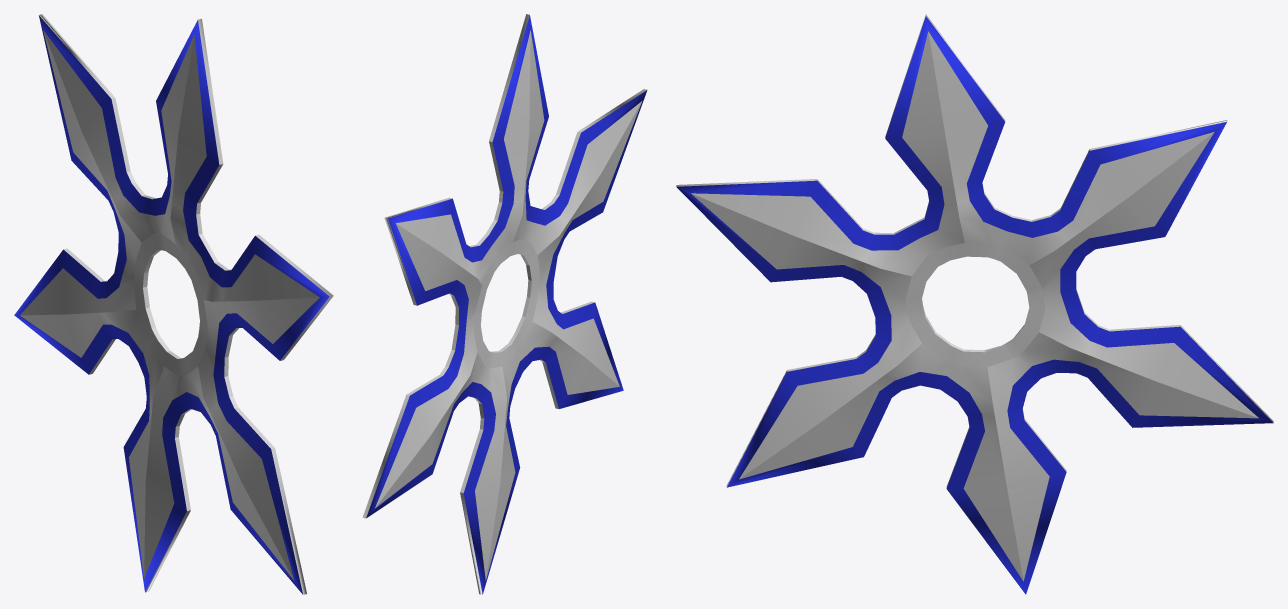
File: SHURIKEN_NEW.fbx
The picture shows the model from 3 angles, left to right: view 1: azimuth 30°, elevation 25°; view 2: azimuth 150°, elevation 25°; view 3: azimuth 270°, elevation 25°; orthographic projection. The views are drawn at different scales.
Parts seen in each view (by area): view 1: Star; view 2: Star; view 3: Star.
Boxes of the visible parts, bbox=[...] form: Star: bbox=[14, 14, 333, 594]; Star: bbox=[362, 14, 647, 594]; Star: bbox=[676, 14, 1273, 594].
Size of the model in its own units: 1.11 by 28 by 26.19.
